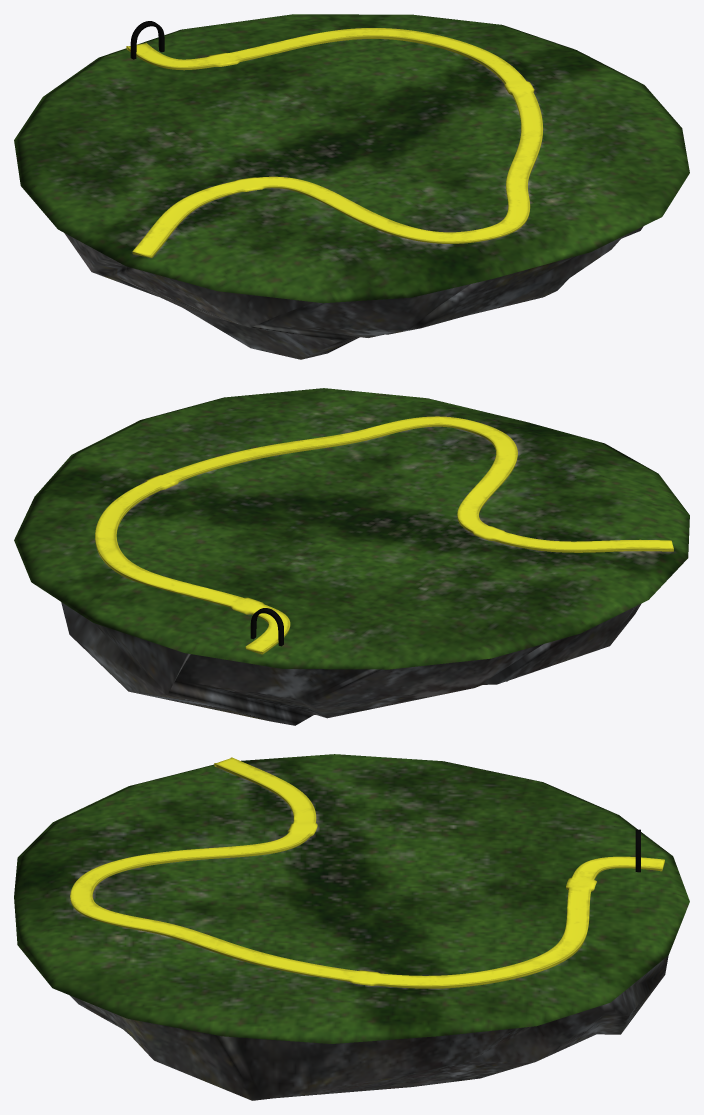
The model's file is island_2.glb.
3 renders of one model, top to bottom at view 1: azimuth 30°, elevation 25°; view 2: azimuth 150°, elevation 25°; view 3: azimuth 270°, elevation 25°, orthographic. The views are drawn at different scales.
Visible parts, largest first — view 1: Island_2; view 2: Island_2; view 3: Island_2.
Part boxes in pixels (x1,y1,x2,y2): Island_2: (14, 14, 689, 359); Island_2: (14, 388, 689, 725); Island_2: (14, 754, 689, 1100).
Bounding box in the file's own units: 54.49 × 17.89 × 53.17.
Materials: 1 (1 with a texture image).
